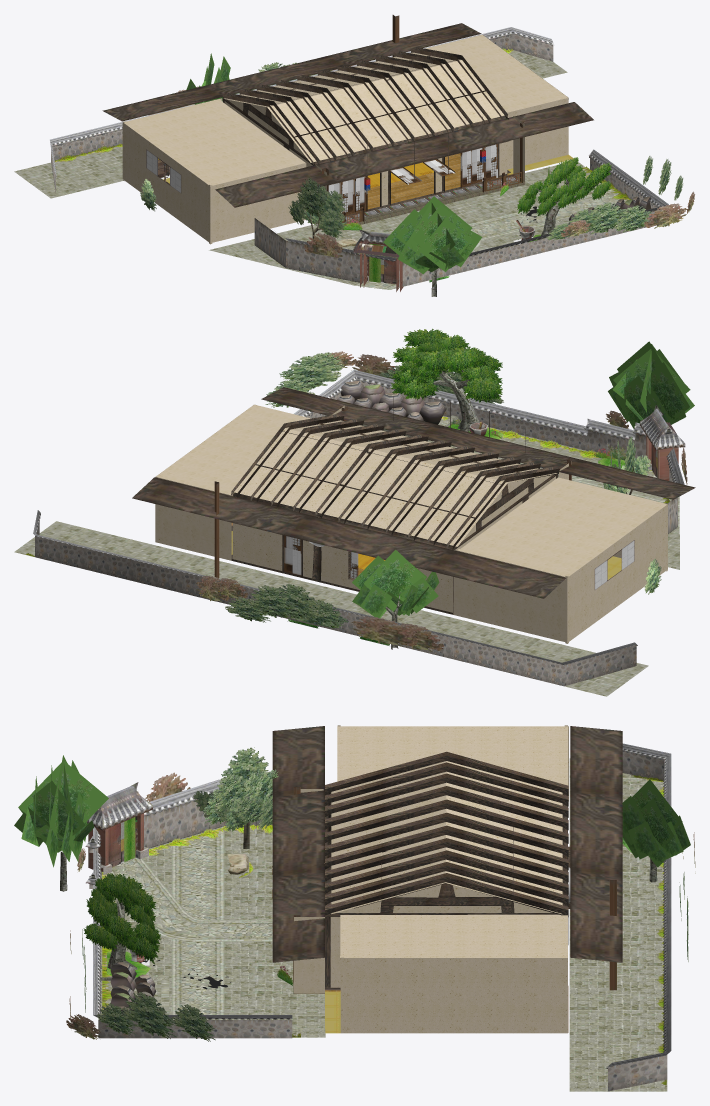
The model's file is F2_Room_Asia.dae.
3 renders of one model, top to bottom at view 1: azimuth 30°, elevation 25°; view 2: azimuth 150°, elevation 25°; view 3: azimuth 270°, elevation 25°, orthographic. The views are drawn at different scales.
Visible parts, largest first — view 1: vsn_mesh_16_polySurface1176, vsn_mesh_2_F2_Room_Asia25, vsn_mesh_18_polySurface1203, vsn_mesh_19_polySurface1204, vsn_mesh_0_F2_Room_Asia22, vsn_mesh_8_polySurface1439, vsn_mesh_9_polySurface1395, vsn_mesh_3_F2_Room_Asia28, vsn_mesh_11_polySurface1415, vsn_mesh_15_polySurface1166, vsn_mesh_10_polySurface1398, vsn_mesh_21_polySurface1300 (+8 smaller); view 2: vsn_mesh_16_polySurface1176, vsn_mesh_2_F2_Room_Asia25, vsn_mesh_19_polySurface1204, vsn_mesh_18_polySurface1203, vsn_mesh_0_F2_Room_Asia22, vsn_mesh_8_polySurface1439, vsn_mesh_12_Tree_Miki1, vsn_mesh_31_polySurface1474, vsn_mesh_10_polySurface1398, vsn_mesh_9_polySurface1395, vsn_mesh_7_polySurface1364, vsn_mesh_27_polySurface1468 (+9 smaller); view 3: vsn_mesh_2_F2_Room_Asia25, vsn_mesh_16_polySurface1176, vsn_mesh_18_polySurface1203, vsn_mesh_19_polySurface1204, vsn_mesh_8_polySurface1439, vsn_mesh_0_F2_Room_Asia22, vsn_mesh_9_polySurface1395, vsn_mesh_11_polySurface1415, vsn_mesh_31_polySurface1474, vsn_mesh_12_Tree_Miki1, vsn_mesh_7_polySurface1364, vsn_mesh_10_polySurface1398 (+7 smaller).
Boxes of the visible parts, bbox=[...] form: vsn_mesh_16_polySurface1176: bbox=[122, 34, 568, 244]; vsn_mesh_2_F2_Room_Asia25: bbox=[102, 23, 593, 224]; vsn_mesh_18_polySurface1203: bbox=[14, 50, 627, 289]; vsn_mesh_19_polySurface1204: bbox=[51, 34, 661, 291]; vsn_mesh_0_F2_Room_Asia22: bbox=[140, 62, 694, 257]; vsn_mesh_8_polySurface1439: bbox=[50, 27, 668, 261]; vsn_mesh_9_polySurface1395: bbox=[186, 79, 472, 272]; vsn_mesh_3_F2_Room_Asia28: bbox=[328, 144, 497, 214]; vsn_mesh_11_polySurface1415: bbox=[288, 151, 485, 238]; vsn_mesh_15_polySurface1166: bbox=[316, 122, 525, 238]; vsn_mesh_10_polySurface1398: bbox=[383, 196, 482, 274]; vsn_mesh_21_polySurface1300: bbox=[367, 153, 509, 209]; vsn_mesh_16_polySurface1176: bbox=[155, 404, 667, 643]; vsn_mesh_2_F2_Room_Asia25: bbox=[132, 387, 695, 614]; vsn_mesh_19_polySurface1204: bbox=[35, 380, 685, 686]; vsn_mesh_18_polySurface1203: bbox=[14, 415, 679, 696]; vsn_mesh_0_F2_Room_Asia22: bbox=[196, 351, 687, 651]; vsn_mesh_8_polySurface1439: bbox=[33, 370, 684, 664]; vsn_mesh_12_Tree_Miki1: bbox=[337, 369, 634, 649]; vsn_mesh_31_polySurface1474: bbox=[352, 549, 438, 618]; vsn_mesh_10_polySurface1398: bbox=[608, 341, 689, 428]; vsn_mesh_9_polySurface1395: bbox=[386, 344, 694, 615]; vsn_mesh_7_polySurface1364: bbox=[402, 334, 650, 493]; vsn_mesh_27_polySurface1468: bbox=[390, 361, 502, 402]; vsn_mesh_2_F2_Room_Asia25: bbox=[272, 726, 622, 993]; vsn_mesh_16_polySurface1176: bbox=[294, 725, 568, 1033]; vsn_mesh_18_polySurface1203: bbox=[98, 758, 667, 1091]; vsn_mesh_19_polySurface1204: bbox=[87, 751, 667, 1091]; vsn_mesh_8_polySurface1439: bbox=[85, 743, 671, 1068]; vsn_mesh_0_F2_Room_Asia22: bbox=[66, 772, 695, 1041]; vsn_mesh_9_polySurface1395: bbox=[14, 761, 632, 853]; vsn_mesh_11_polySurface1415: bbox=[203, 747, 278, 831]; vsn_mesh_31_polySurface1474: bbox=[622, 779, 690, 867]; vsn_mesh_12_Tree_Miki1: bbox=[60, 822, 657, 1023]; vsn_mesh_7_polySurface1364: bbox=[83, 791, 246, 948]; vsn_mesh_10_polySurface1398: bbox=[46, 755, 88, 867].
Size of the model in its own units: 253 by 48.89 by 219.
Materials: 15 (14 with a texture image).
